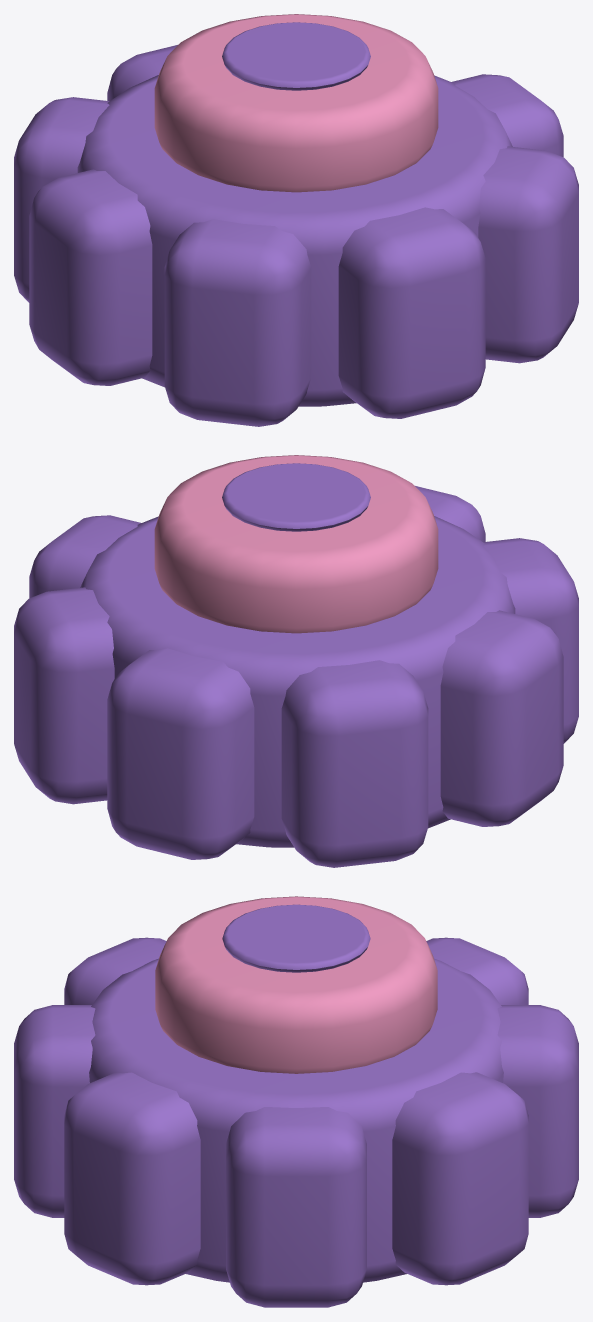
The model's file is tile_gear.fbx.
3 renders of one model, top to bottom at view 1: azimuth 30°, elevation 25°; view 2: azimuth 150°, elevation 25°; view 3: azimuth 270°, elevation 25°, orthographic.
Parts seen in each view (by area): view 1: Hub, Gear rim, Tooth.005, Tooth.006, Tooth.004, Tooth.007, Dark bore, Tooth.003, Tooth, Tooth.002; view 2: Hub, Gear rim, Tooth.003, Tooth.002, Tooth.004, Tooth.001, Dark bore, Tooth.005, Tooth, Tooth.006; view 3: Gear rim, Hub, Tooth, Tooth.001, Tooth.007, Tooth.002, Tooth.006, Dark bore, Tooth.003, Tooth.005.
Part boxes in pixels (x1,y1,x2,y2): Hub: (154,14,438,192); Gear rim: (77,75,512,406); Tooth.005: (164,219,311,426); Tooth.006: (338,207,485,418); Tooth.004: (29,169,152,385); Tooth.007: (478,146,578,363); Dark bore: (222,22,370,90); Tooth.003: (14,97,109,302); Tooth: (451,74,563,157); Tooth.002: (107,45,177,101); Hub: (154,455,438,633); Gear rim: (80,516,515,847); Tooth.003: (281,660,428,867); Tooth.002: (107,648,254,859); Tooth.004: (440,610,563,826); Tooth.001: (14,587,114,804); Dark bore: (222,463,370,531); Tooth.005: (483,538,578,743); Tooth: (29,515,141,598); Tooth.006: (415,486,485,542); Gear rim: (89,958,503,1282); Hub: (155,896,437,1073); Tooth: (226,1107,366,1307); Tooth.001: (392,1072,528,1285); Tooth.007: (64,1072,200,1285); Tooth.002: (497,1005,578,1217); Tooth.006: (14,1005,95,1217); Dark bore: (222,904,370,972); Tooth.003: (426,937,528,1004); Tooth.005: (64,937,166,1004).
Size of the model in its own units: 0.8 by 0.4275 by 0.8.
